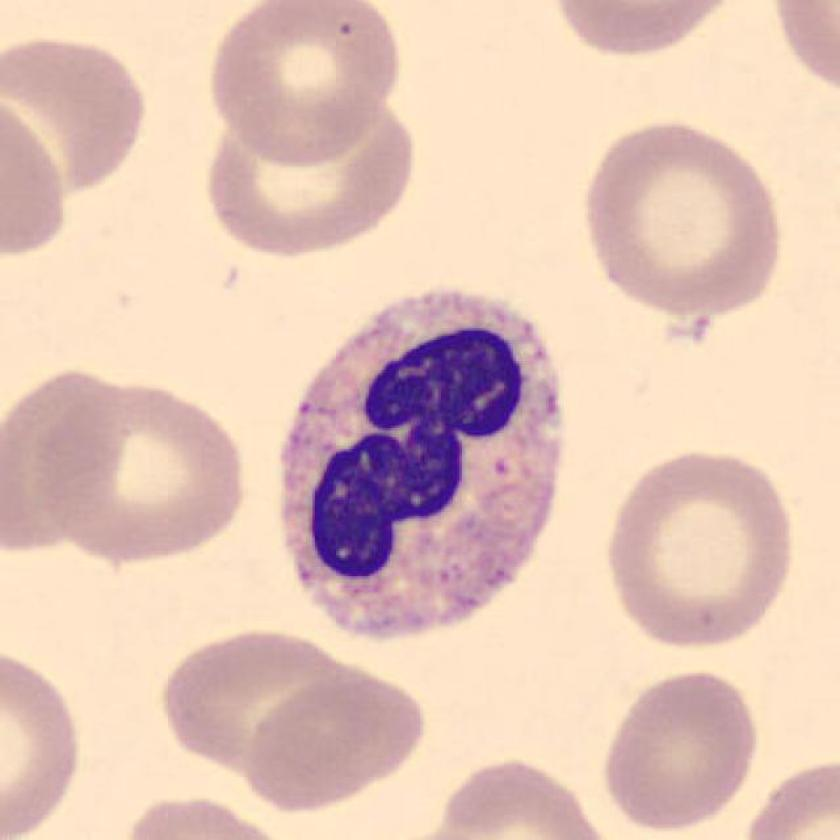neutrophil: (281, 288, 562, 635)
